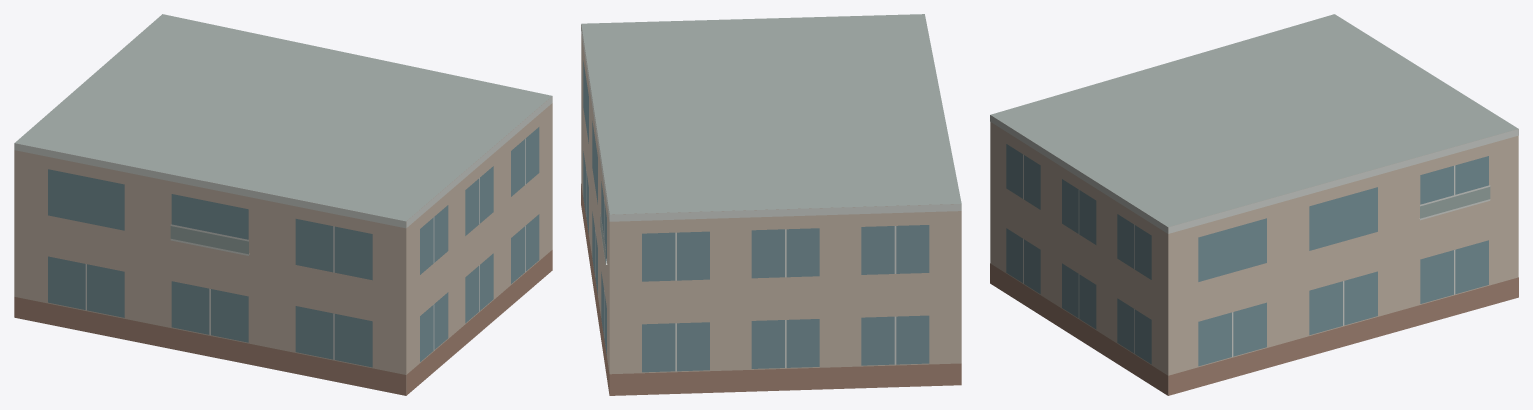
The model's file is survey-upis-32947987.glb.
3 views of the same model, side by side, from view 1: azimuth 30°, elevation 25°; view 2: azimuth 150°, elevation 25°; view 3: azimuth 270°, elevation 25° (orthographic). The views are drawn at different scales.
Parts seen in each view (by area): view 1: survey-upis-32947987.tmp; view 2: survey-upis-32947987.tmp; view 3: survey-upis-32947987.tmp.
Boxes of the visible parts, <box> form: survey-upis-32947987.tmp: <box>14,14,552,395</box>; survey-upis-32947987.tmp: <box>581,14,961,395</box>; survey-upis-32947987.tmp: <box>990,14,1518,395</box>.
Size of the model in its own units: 16.55 by 6.1 by 17.34.
